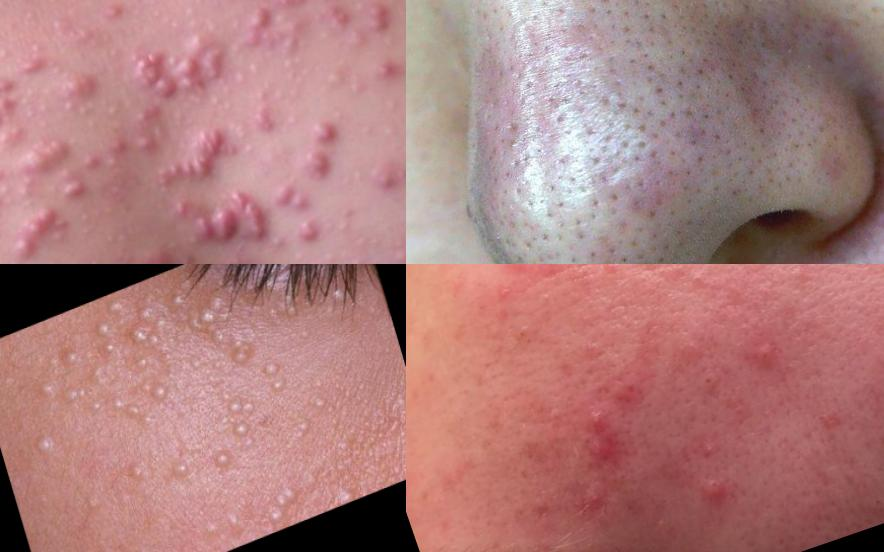blackhead: (482, 16, 584, 108), (598, 134, 700, 225), (517, 88, 608, 174), (744, 89, 834, 175), (530, 159, 614, 244), (566, 1, 644, 88), (636, 40, 718, 121), (459, 118, 533, 206), (569, 213, 679, 265), (593, 79, 665, 154), (707, 23, 780, 96), (681, 111, 752, 182), (487, 194, 555, 265), (628, 1, 732, 47)
keloid: (141, 119, 244, 196), (178, 195, 255, 257), (6, 123, 81, 186), (1, 201, 72, 265), (125, 43, 181, 108), (1, 65, 28, 141)
milium: (171, 265, 263, 376), (91, 289, 169, 368), (253, 473, 310, 533), (251, 344, 299, 404), (276, 400, 327, 456), (222, 385, 265, 445), (778, 33, 823, 90), (215, 327, 262, 381), (62, 372, 107, 425), (136, 363, 184, 411), (107, 385, 148, 433), (118, 452, 158, 493), (214, 501, 250, 542), (204, 443, 240, 481), (326, 475, 364, 510), (54, 336, 86, 377), (163, 455, 197, 493), (124, 348, 160, 383), (33, 373, 64, 409), (32, 426, 62, 463), (327, 279, 356, 314), (734, 1, 785, 20), (153, 338, 181, 372), (306, 391, 332, 421)
papular: (556, 408, 634, 486), (730, 332, 794, 401), (681, 464, 739, 529), (554, 482, 621, 533), (682, 362, 733, 411), (603, 383, 659, 427), (683, 265, 730, 302), (301, 142, 341, 184), (304, 111, 345, 149), (479, 265, 544, 287)
sebo-crystan-conglo: (162, 24, 238, 101), (229, 1, 319, 54), (318, 1, 398, 55), (113, 96, 177, 162), (224, 178, 278, 255), (53, 61, 113, 118), (268, 174, 316, 219), (288, 212, 329, 256)
whitehead: (235, 50, 278, 97), (59, 244, 116, 265)
